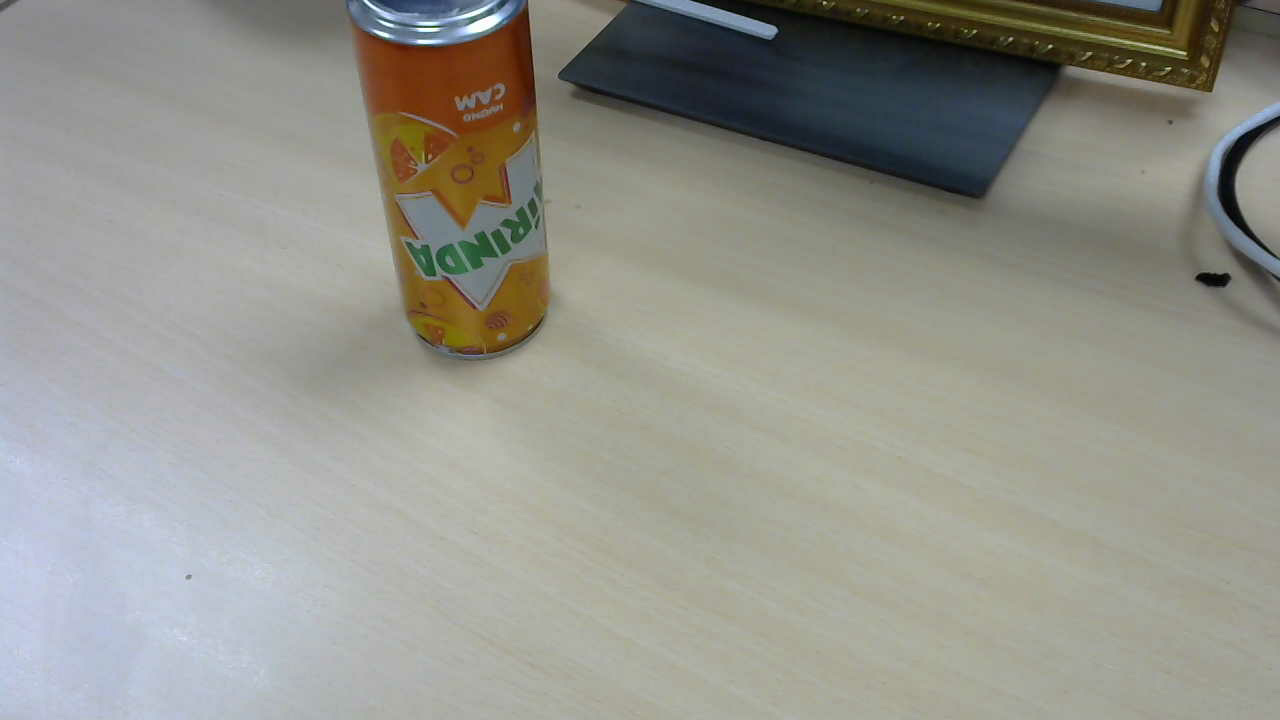Mirinda: (345, 3, 559, 367)
